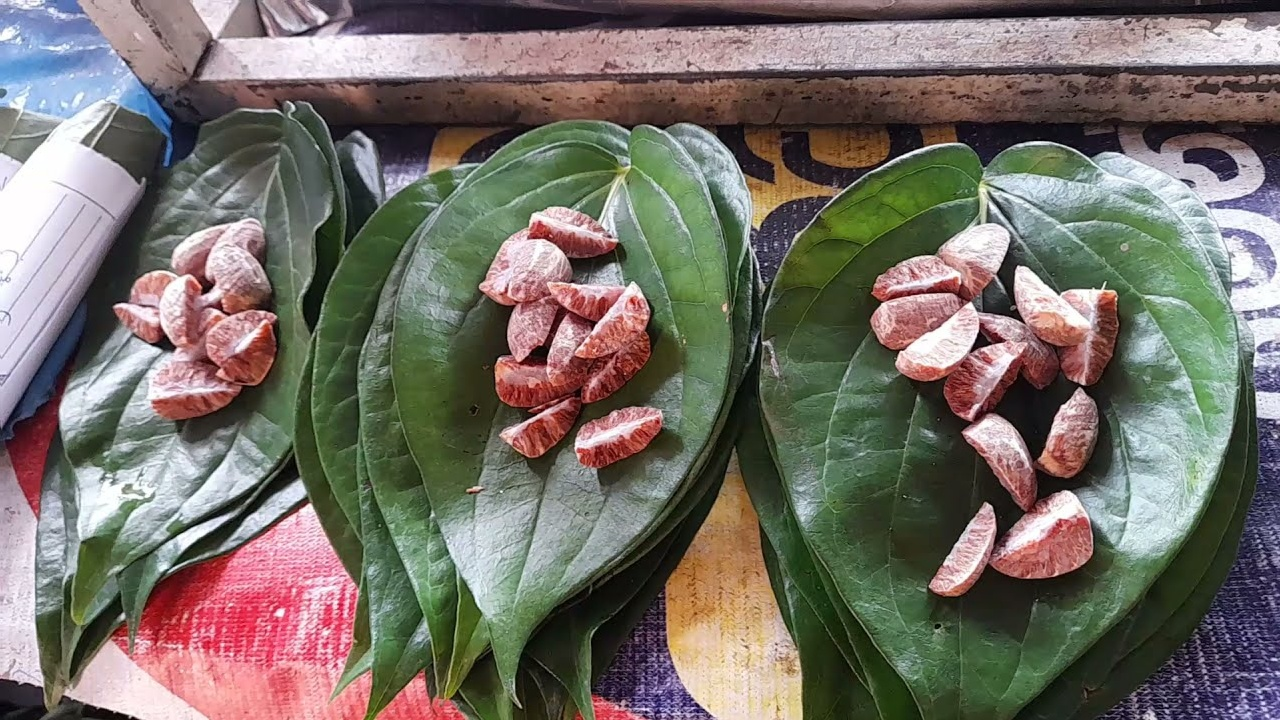bulathwita: (759, 140, 1261, 719), (305, 112, 756, 715), (32, 94, 344, 711)
